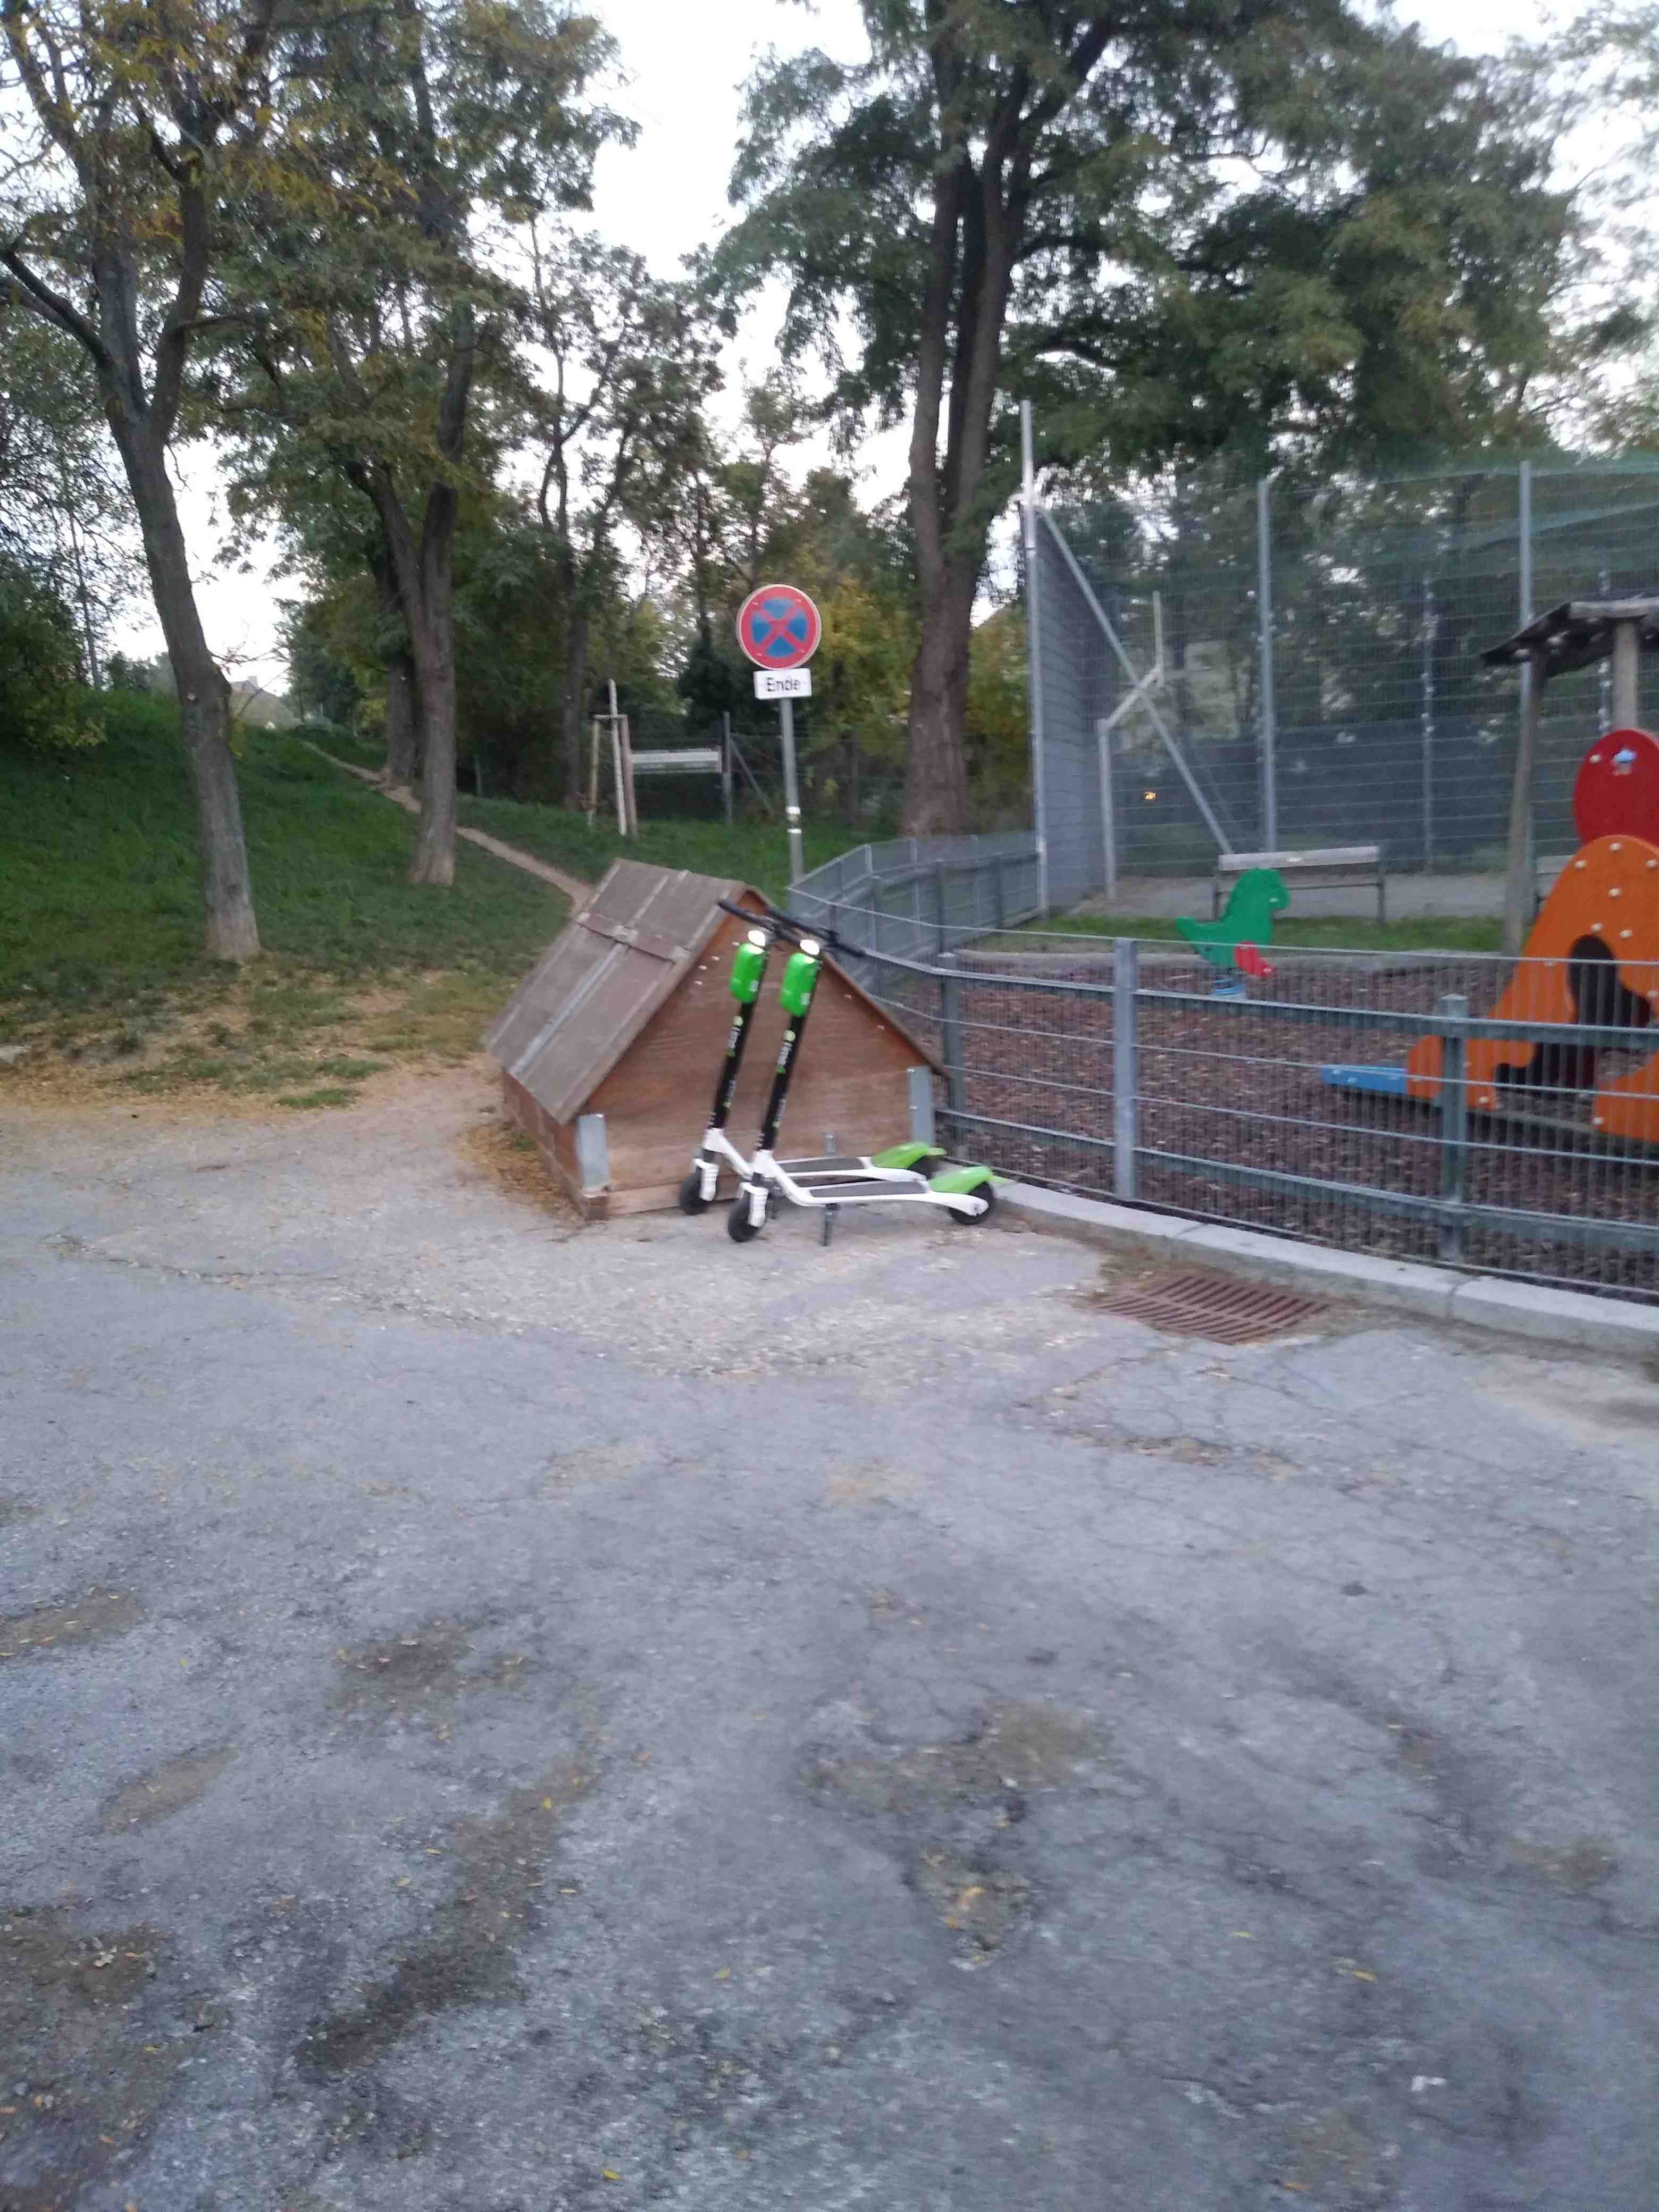scooter: (603, 873, 1007, 1247)
